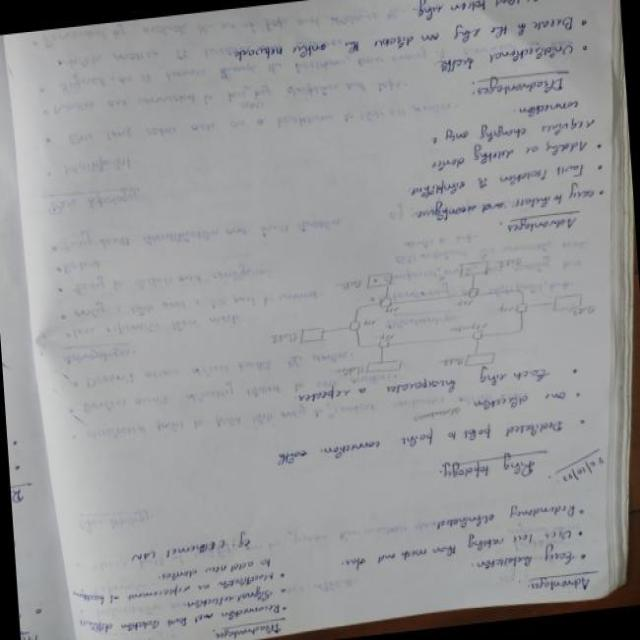Figure Detection - v3 Dataset Version2: (263, 243, 608, 394)
